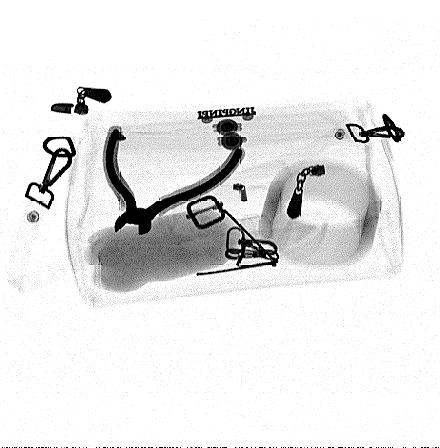Pliers: (102, 131, 245, 235)
